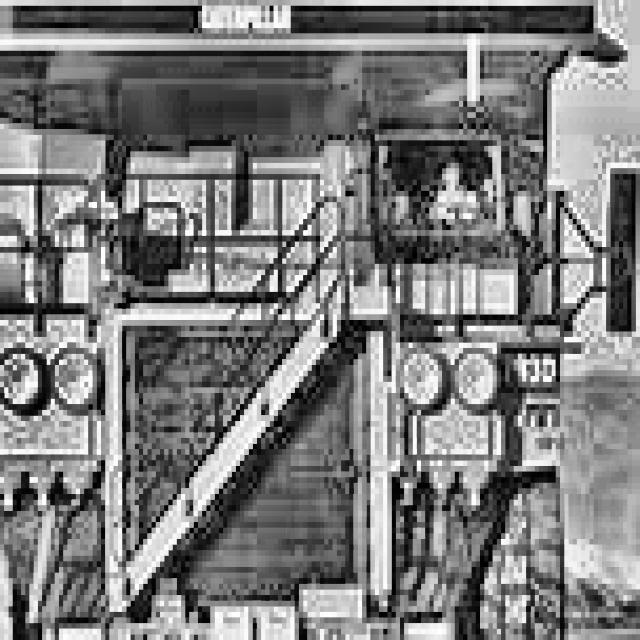dump_truck: (0, 0, 632, 640)
